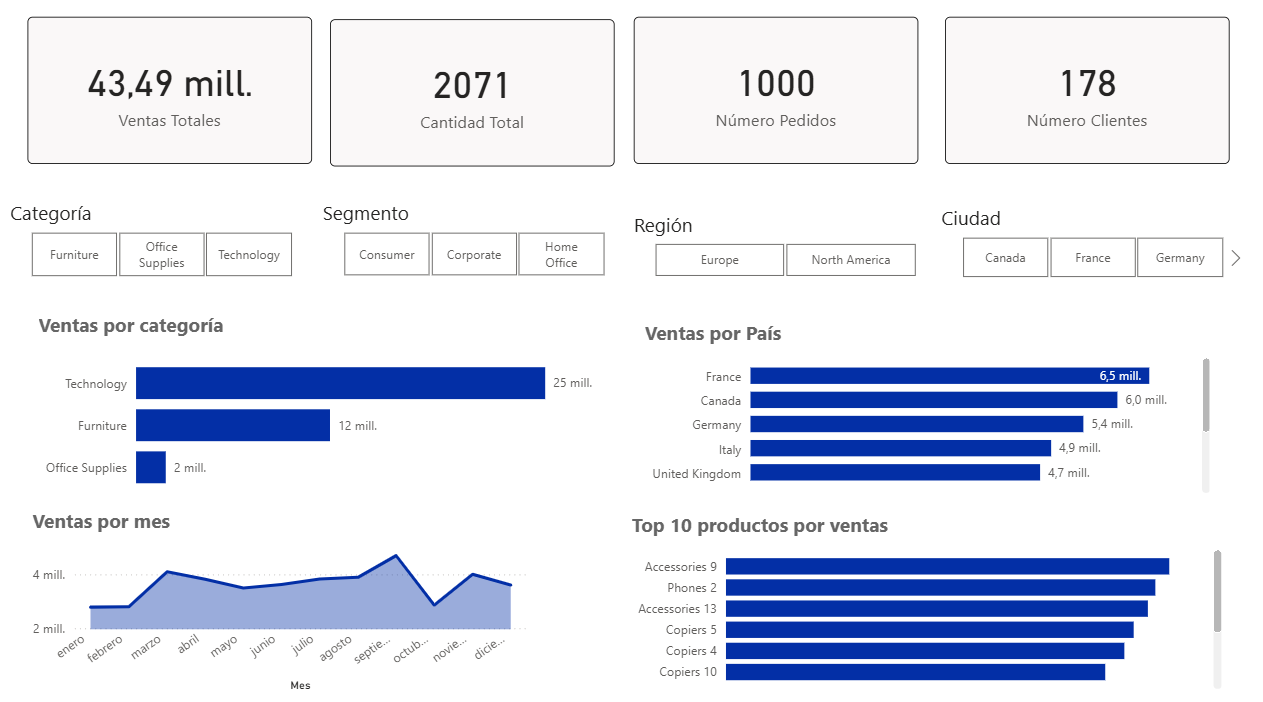

The page's visual inventory and layout, read from the dashboard file:
{"tool":"powerbi","page":{"name":"Resumen Ventas","canvas":[1280,720],"ordinal":1},"visuals":[{"type":"card","fields":{"Values":["retail_orders.CantidadTotal"]},"box":[342.6,34.9,278.1,143.7],"z":0},{"type":"card","fields":{"Values":["retail_orders.NúmeroPedidos"]},"box":[639.5,33.6,278.1,143.7],"z":2},{"type":"card","fields":{"Values":["retail_orders.NúmeroClientes"]},"box":[944.4,33.6,278.1,143.7],"z":3},{"type":"card","fields":{"Values":["retail_orders.VentasTotales"]},"box":[47,33.6,278.1,143.7],"z":4},{"type":"slicer","title":"Categoría","fields":{"Values":["retail_products.Category"]},"box":[20.2,209.6,314.4,87.3],"z":5},{"type":"slicer","title":"Segmento","fields":{"Values":["retail_customers.Segment"]},"box":[325.1,209.6,314.4,79.3],"z":6},{"type":"slicer","title":"Región","fields":{"Values":["retail_orders.Region"]},"box":[630.1,220.3,314.4,76.6],"z":7},{"type":"slicer","title":"Ciudad","fields":{"Values":["retail_orders.Country"]},"box":[931,213.6,314.4,83.3],"z":8},{"type":"clusteredBarChart","title":"Ventas por categoría","fields":{"Category":["retail_orders.Category"],"Y":["Sum(retail_orders.Sales)"]},"box":[46.5,310.6,566.2,203],"z":9},{"type":"clusteredBarChart","title":"Ventas por País","fields":{"Y":["retail_orders.VentasTotales"],"Category":["retail_orders.Country"]},"box":[639.5,317.9,574.7,187.1],"z":10},{"type":"lineChart","title":"Ventas por mes","fields":{"Category":["retail_orders.OrderDate.Variación.Jerarquía de fechas.Mes"],"Y":["retail_orders.VentasTotales"]},"box":[46.5,513.6,492.8,184.6],"z":11},{"type":"clusteredBarChart","title":"Top 10 productos por ventas","fields":{"Category":["retail_products.ProductName"],"Y":["retail_orders.VentasTotales1"]},"box":[630,513.1,593,185.3],"z":12}]}

Visuals, with their boxes in screenshot pixels (x1, y1, x2, y2), scaled from the page's 1280x720 canvas onto the 1263x702 screenshot:
card - retail_orders.CantidadTotal: l=338, t=34, r=612, b=174
card - retail_orders.NúmeroPedidos: l=631, t=33, r=905, b=173
card - retail_orders.NúmeroClientes: l=932, t=33, r=1206, b=173
card - retail_orders.VentasTotales: l=46, t=33, r=321, b=173
"Categoría" slicer: l=20, t=204, r=330, b=289
"Segmento" slicer: l=321, t=204, r=631, b=282
"Región" slicer: l=622, t=215, r=932, b=289
"Ciudad" slicer: l=919, t=208, r=1229, b=289
"Ventas por categoría" clusteredBarChart: l=46, t=303, r=605, b=501
"Ventas por País" clusteredBarChart: l=631, t=310, r=1198, b=492
"Ventas por mes" lineChart: l=46, t=501, r=532, b=681
"Top 10 productos por ventas" clusteredBarChart: l=622, t=500, r=1207, b=681
